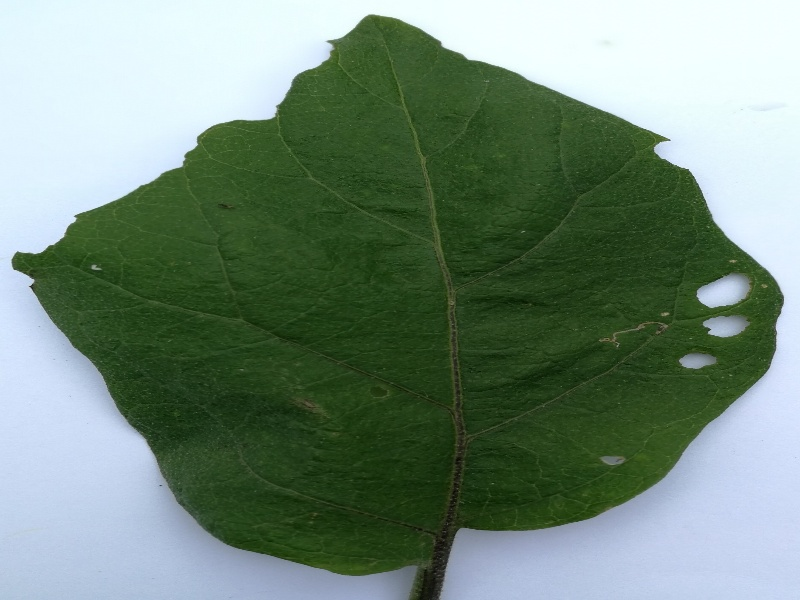leafminer: (585, 307, 685, 348)
